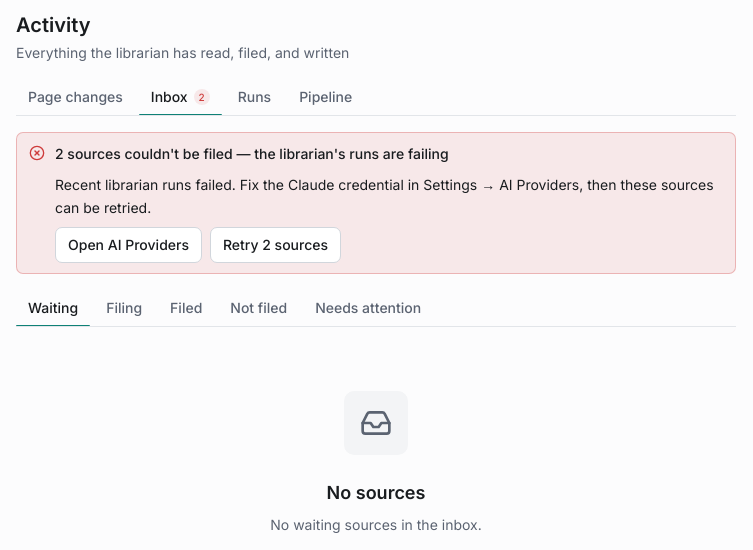
Test: Knowledge Activity page › shows the retry button for an admin and refetches the dead count on success
The width and height of the screenshot is (753, 550).
Click the button "Retry 2 sources" at coordinates (276, 245), box [210,227,341,263]
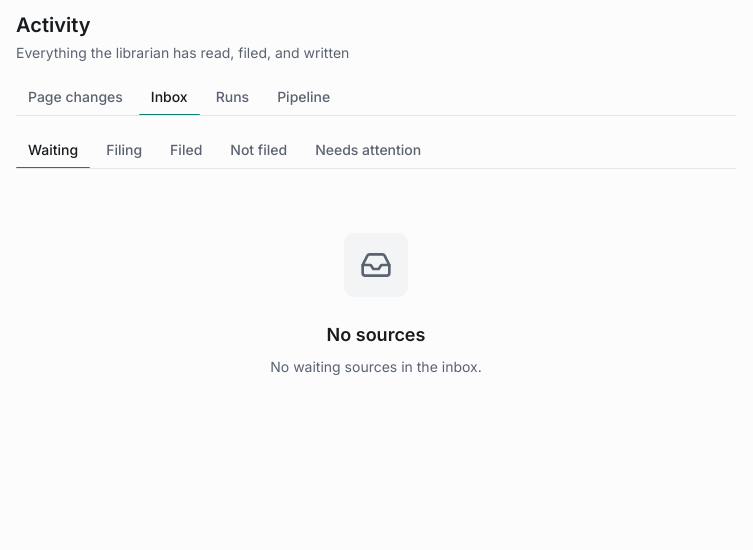
Expected: the button "Retry" is gone
